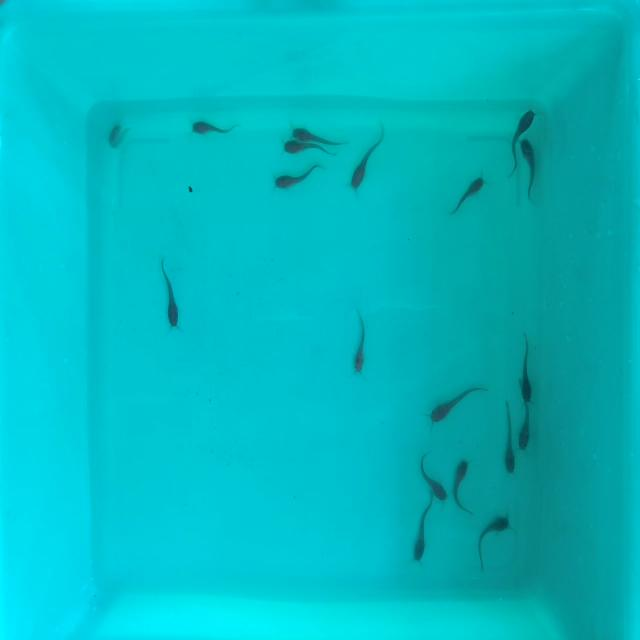lele: (430, 381, 489, 431), (344, 128, 387, 190), (474, 515, 512, 567), (414, 450, 451, 503), (449, 170, 491, 216), (520, 136, 542, 208), (276, 162, 327, 191), (160, 260, 181, 328), (518, 329, 537, 402), (412, 497, 433, 561), (500, 400, 518, 474), (289, 126, 344, 150), (452, 457, 474, 517), (285, 135, 338, 154), (518, 401, 534, 459), (508, 111, 540, 137), (190, 118, 234, 136), (354, 309, 366, 374), (108, 122, 121, 149)
